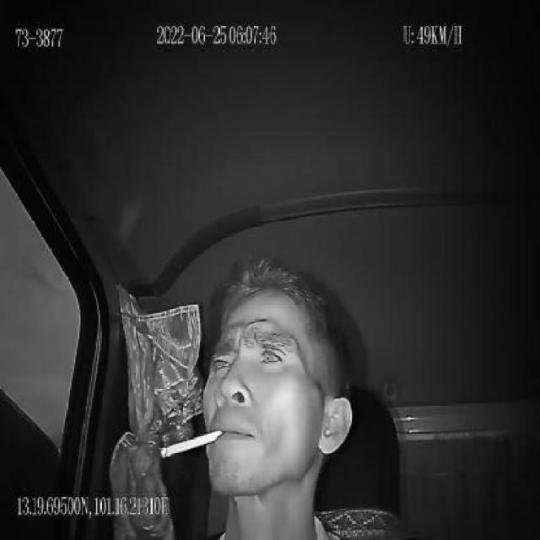smoking: (160, 426, 226, 462)
